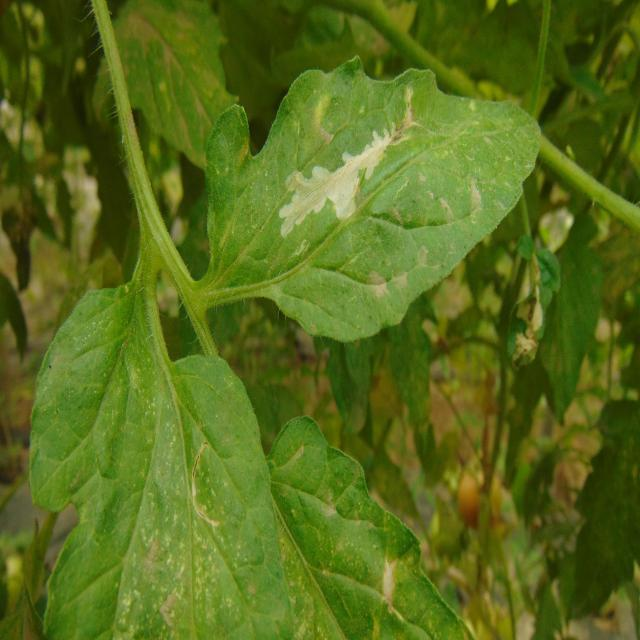Tuta absoluta: (259, 119, 427, 248), (381, 558, 397, 613)
